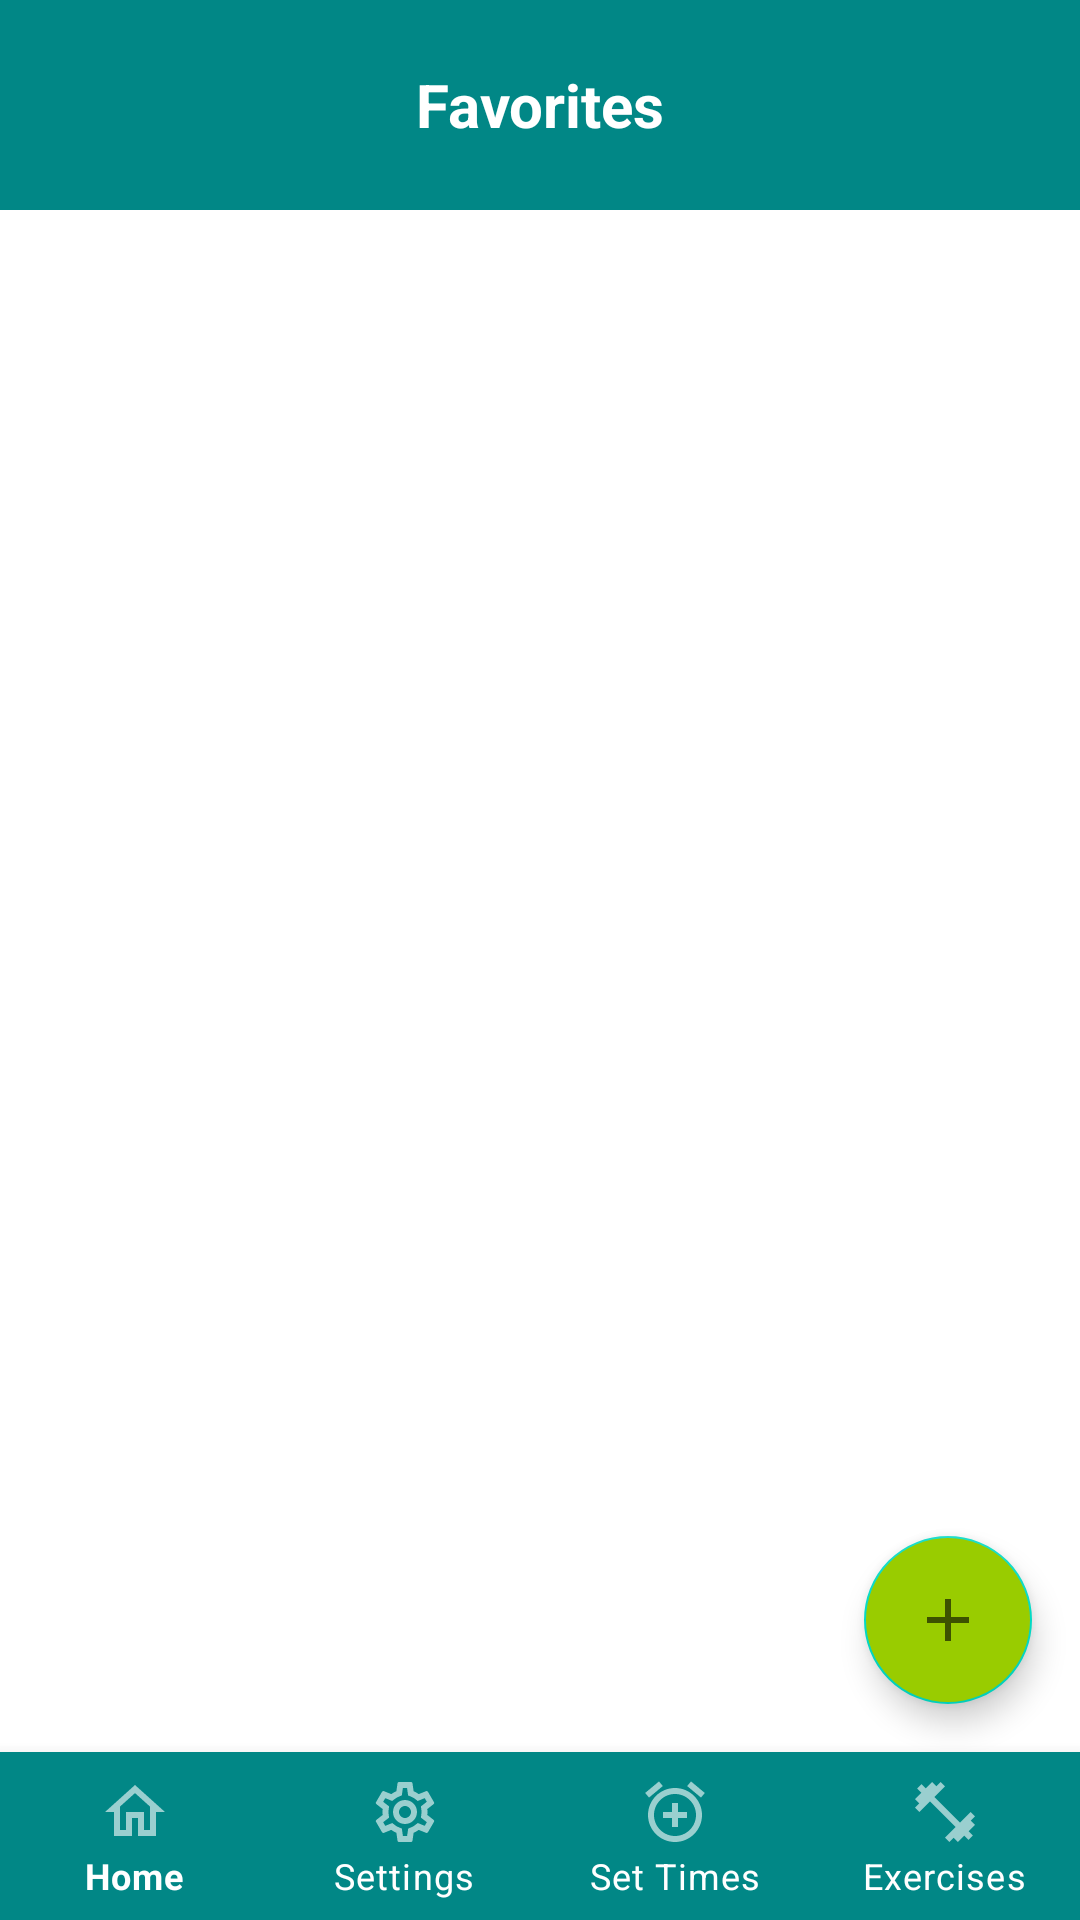

Where to tap for icons on this 1080*1920 app screen, as (x,y):
plus: (948,1620)
